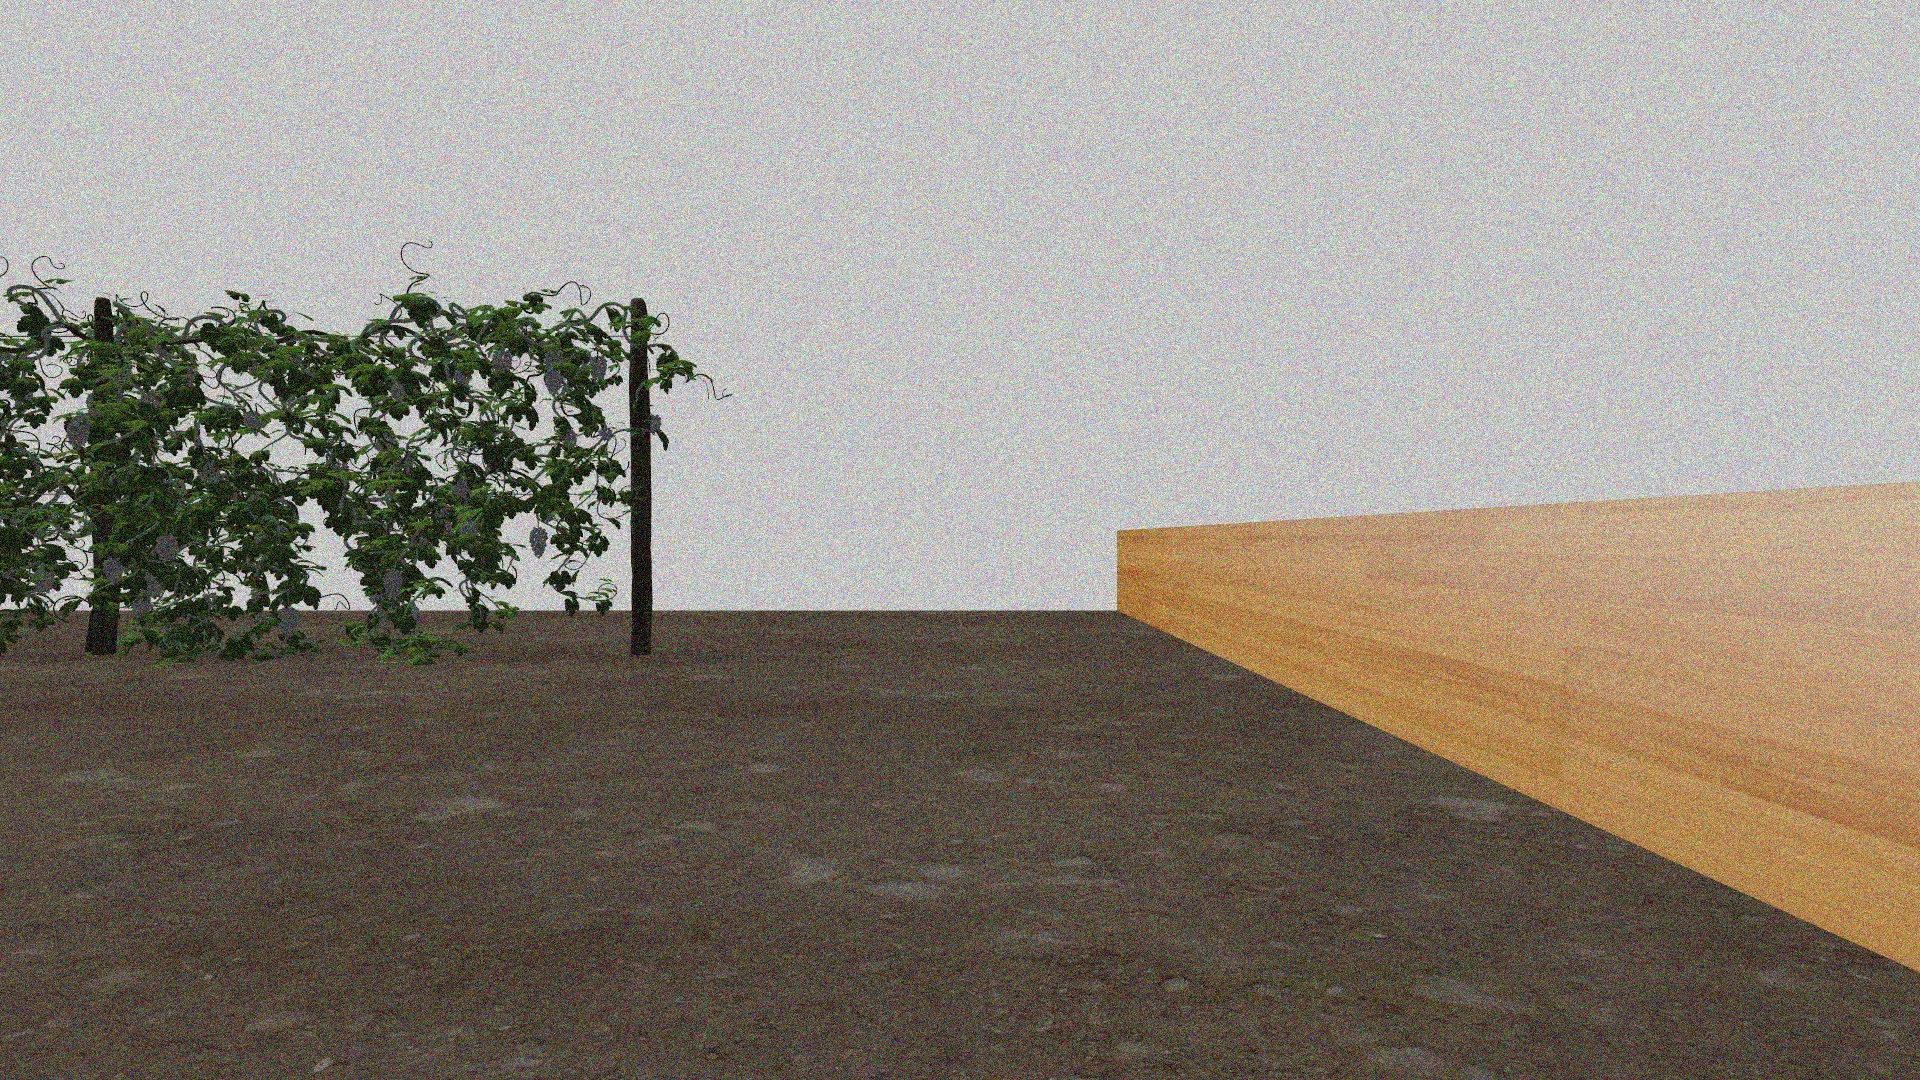grape: (66, 415, 91, 451), (276, 607, 301, 638), (32, 562, 55, 595), (156, 534, 179, 564), (102, 555, 124, 585), (382, 568, 404, 600), (529, 527, 549, 560), (144, 570, 165, 600), (131, 589, 150, 618), (492, 349, 513, 375), (545, 343, 564, 369), (545, 369, 563, 396), (244, 411, 262, 436), (589, 356, 607, 382), (560, 427, 578, 450), (650, 414, 662, 436)
